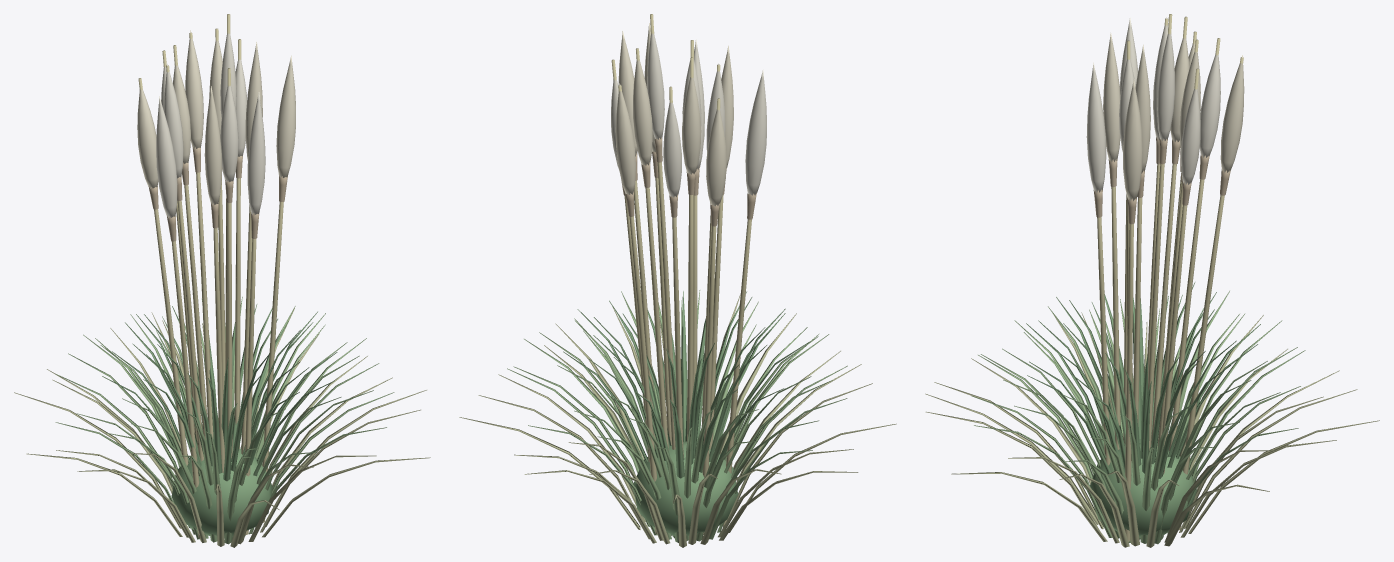
Rendered from pampas_cortadera_4.glb.
3 views of the same model, side by side, from view 1: azimuth 30°, elevation 25°; view 2: azimuth 150°, elevation 25°; view 3: azimuth 270°, elevation 25° (orthographic). The views are drawn at different scales.
Visible parts, largest first — view 1: CortStalks, CortBladeDeep, CortBladeMid, CortPlumeGold, CortBladeDry, CortPlumeSilk, CortSheaths; view 2: CortStalks, CortBladeDeep, CortBladeMid, CortBladeDry, CortPlumeGold, CortPlumeSilk, CortSheaths; view 3: CortStalks, CortBladeDeep, CortBladeMid, CortBladeDry, CortPlumeGold, CortPlumeSilk, CortSheaths.
Part boxes in pixels (<box>): CortStalks: <box>138,14,283,538</box>; CortBladeDeep: <box>102,299,337,538</box>; CortBladeMid: <box>55,296,394,544</box>; CortPlumeGold: <box>137,30,295,205</box>; CortBladeDry: <box>14,308,430,547</box>; CortPlumeSilk: <box>156,33,265,217</box>; CortSheaths: <box>148,146,287,241</box>; CortStalks: <box>611,14,751,534</box>; CortBladeDeep: <box>563,291,809,536</box>; CortBladeMid: <box>507,290,847,542</box>; CortBladeDry: <box>459,295,896,547</box>; CortPlumeGold: <box>615,23,733,206</box>; CortPlumeSilk: <box>611,33,766,197</box>; CortSheaths: <box>621,137,756,226</box>; CortStalks: <box>1097,14,1243,541</box>; CortBladeDeep: <box>1026,282,1260,537</box>; CortBladeMid: <box>971,291,1305,544</box>; CortBladeDry: <box>925,312,1379,547</box>; CortPlumeGold: <box>1103,32,1244,201</box>; CortPlumeSilk: <box>1086,17,1220,192</box>; CortSheaths: <box>1093,137,1230,224</box>.
Bounding box in the file's own units: 1.55 × 2.14 × 1.68.
